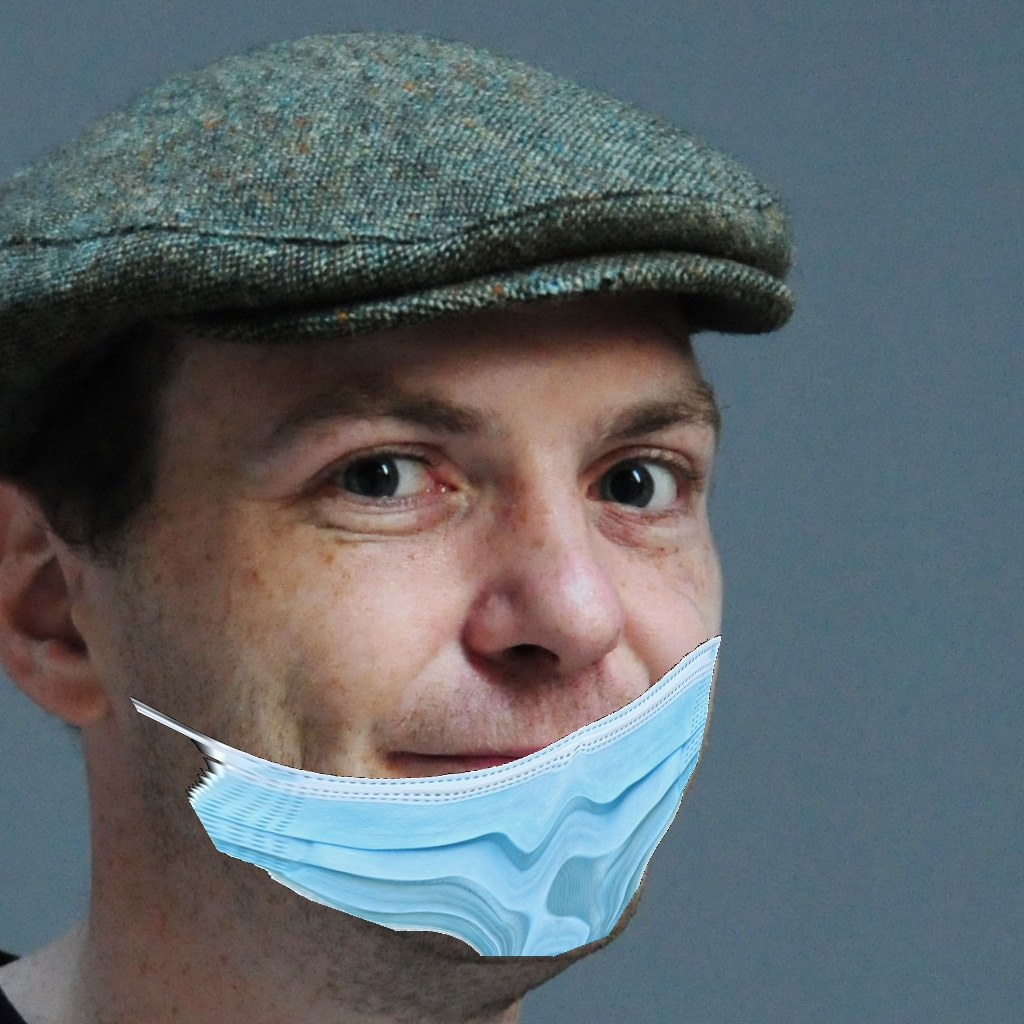Mask_Mouth_Chin: (120, 377, 717, 982)
